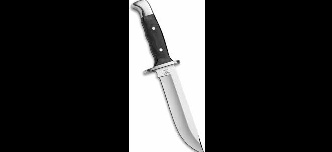k1: (142, 56, 203, 152)
